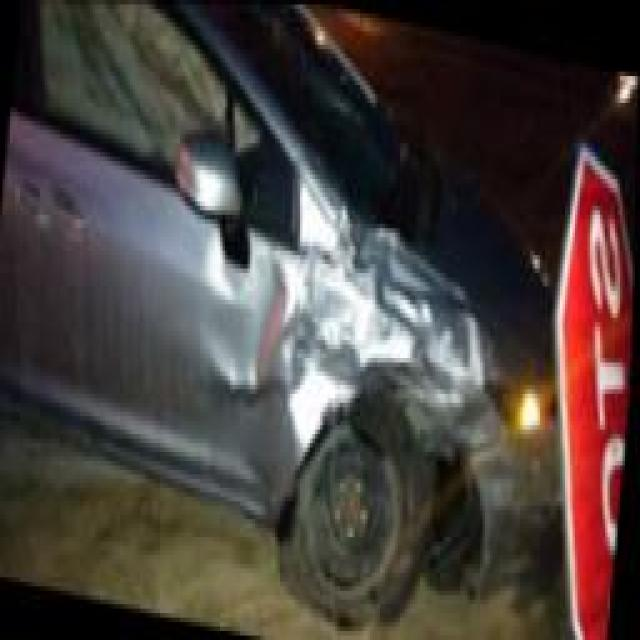Bumper: (468, 436, 572, 621)
Door: (177, 226, 301, 505)
Fender: (272, 234, 511, 527)
